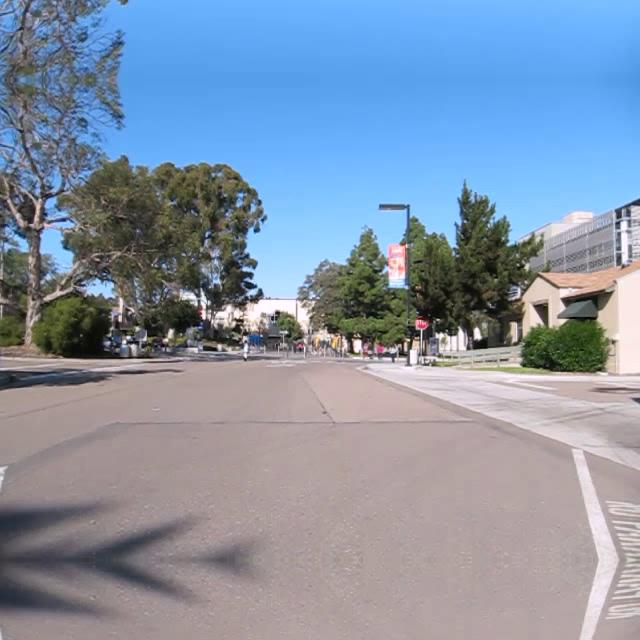stop: (414, 314, 430, 330)
